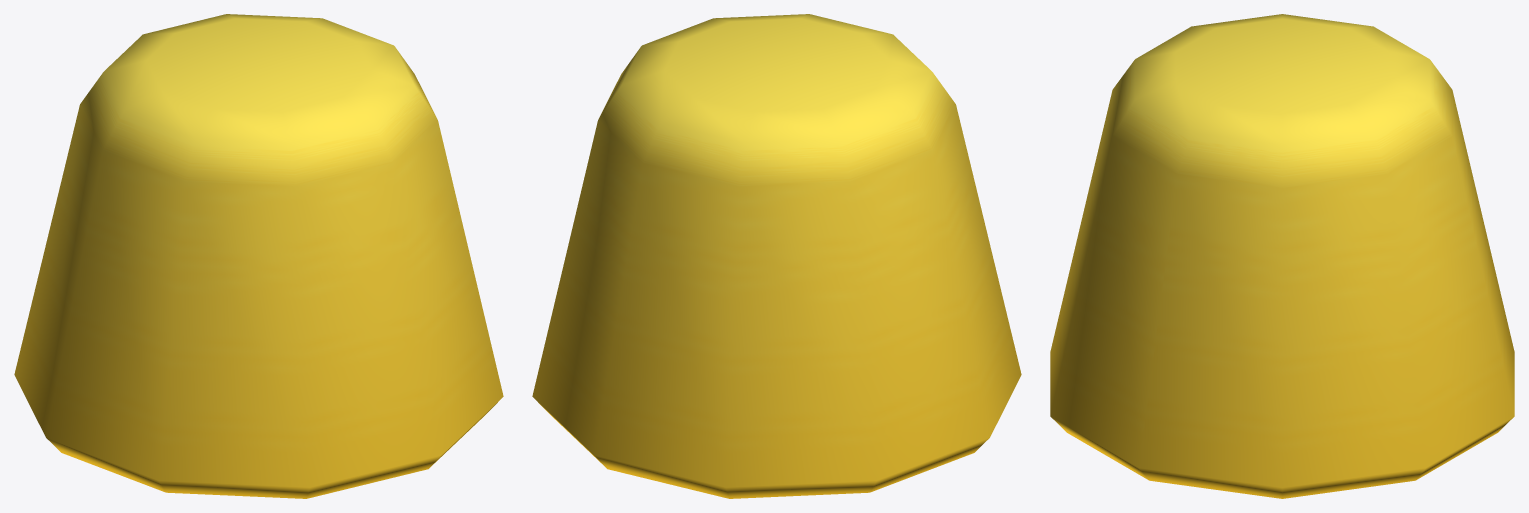
Rendered from SM_GUMDROP_YELLOW.fbx.
3 views of the same model, side by side, from view 1: azimuth 30°, elevation 25°; view 2: azimuth 150°, elevation 25°; view 3: azimuth 270°, elevation 25° (orthographic).
Parts seen in each view (by area): view 1: GUMDROP_YELLOW; view 2: GUMDROP_YELLOW; view 3: GUMDROP_YELLOW.
Boxes of the visible parts, x1,y1,x2,y2 form: GUMDROP_YELLOW: (14, 14, 503, 498); GUMDROP_YELLOW: (532, 14, 1021, 498); GUMDROP_YELLOW: (1050, 14, 1514, 498).
Size of the model in its own units: 51.97 by 39.55 by 49.43.
Materials: 1 (1 with a texture image).
